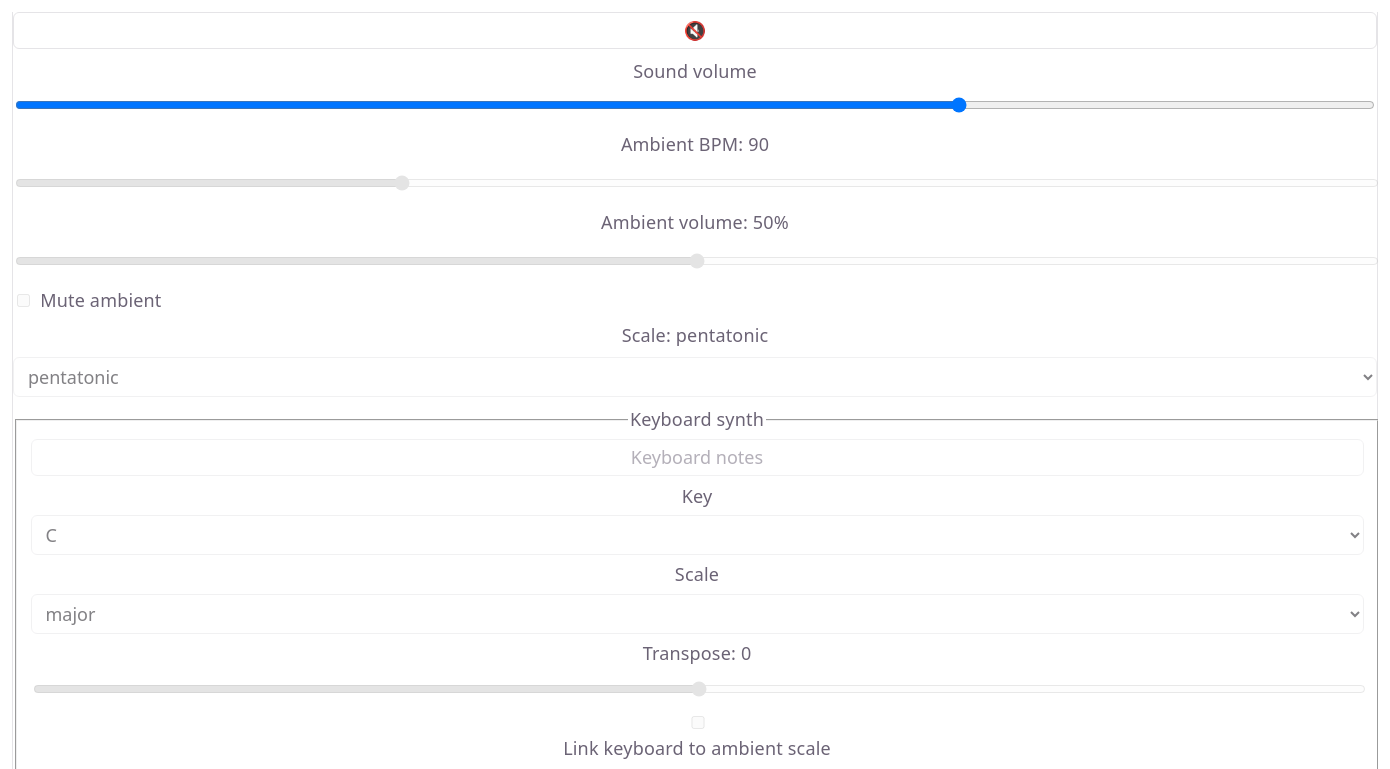
Test: Structured2DSoundControls › renders only enabled input controls and activates audio on click
Click the button named "Enable sound": (695, 31) top-left (13, 12), bottom-right (1377, 49)
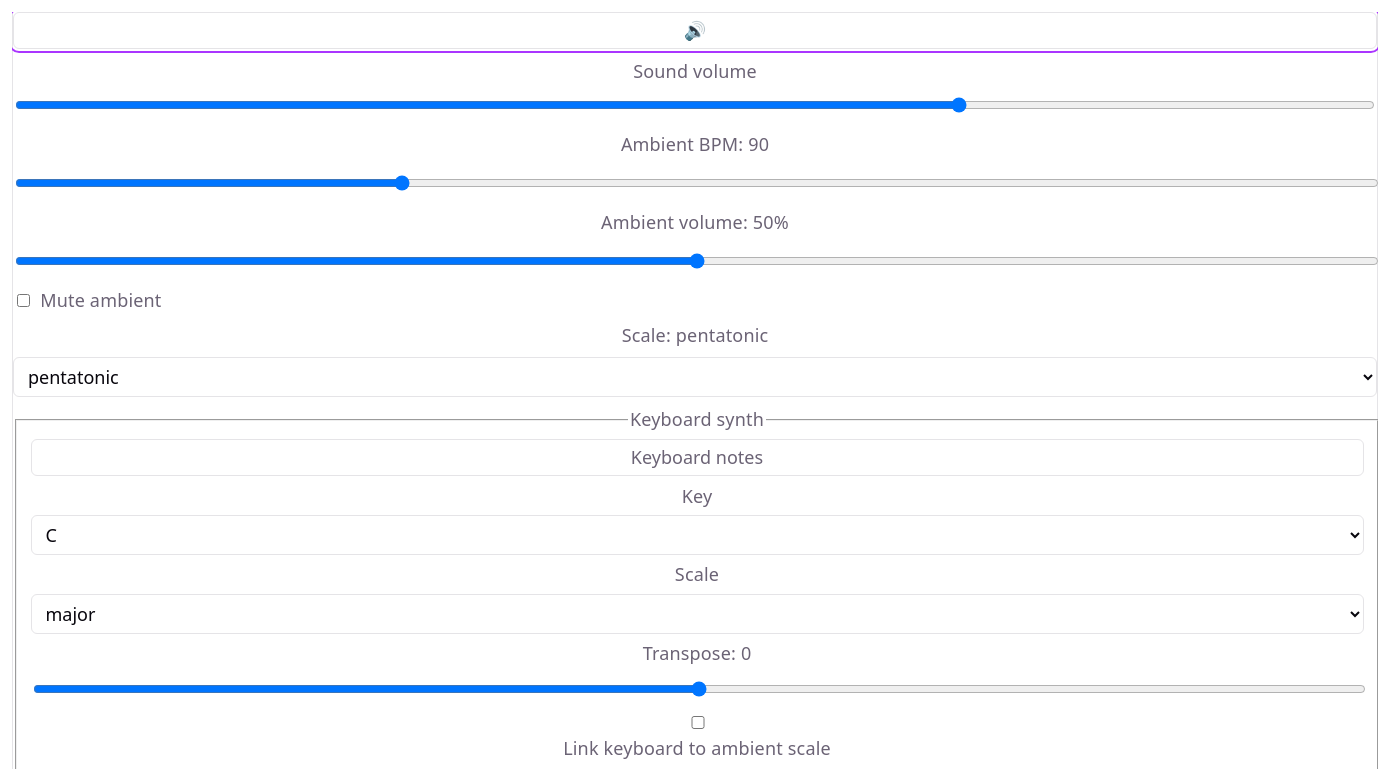
expect the button named "Mute sound" is shown: met
Click the button named "Mute sound": (695, 31) top-left (13, 12), bottom-right (1377, 49)
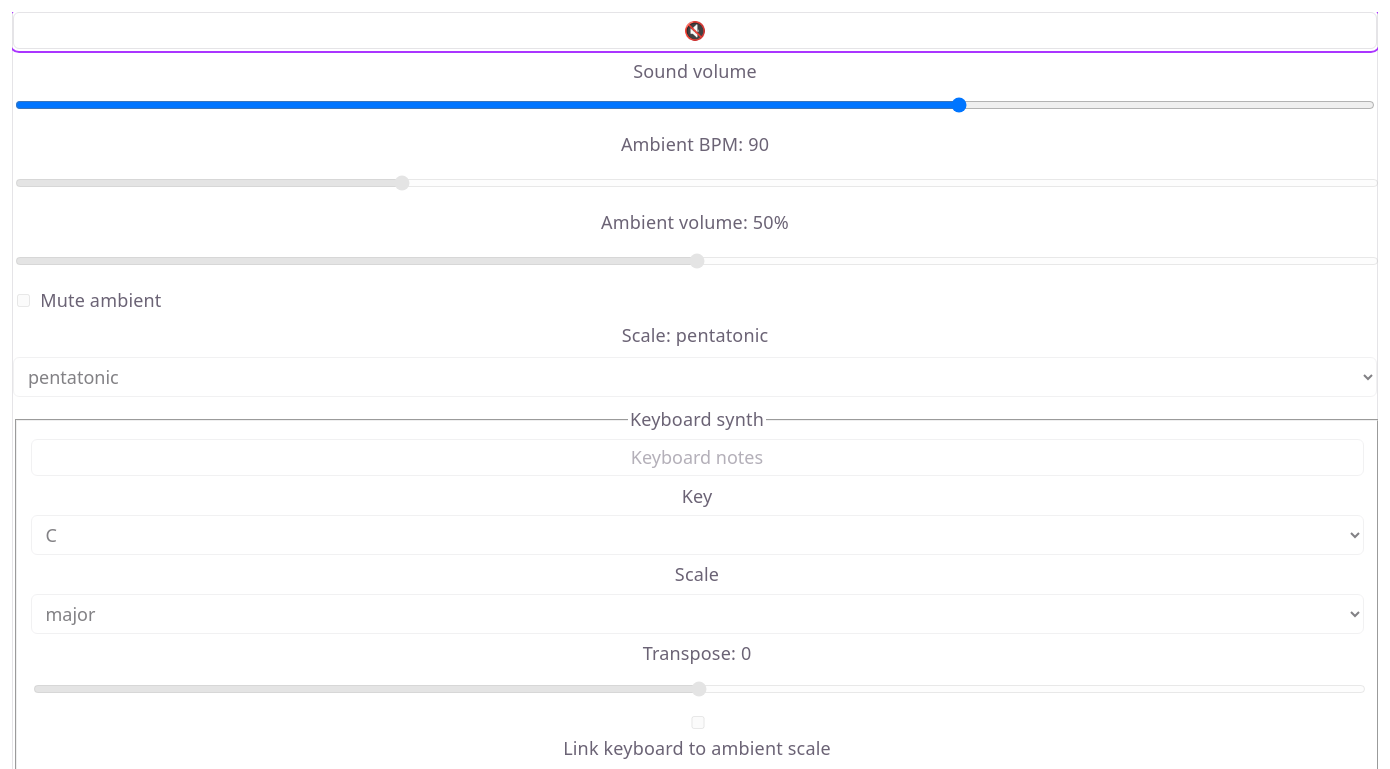
expect the button named "Enable sound" is shown: met, box top-left (13, 12), bottom-right (1377, 49)
